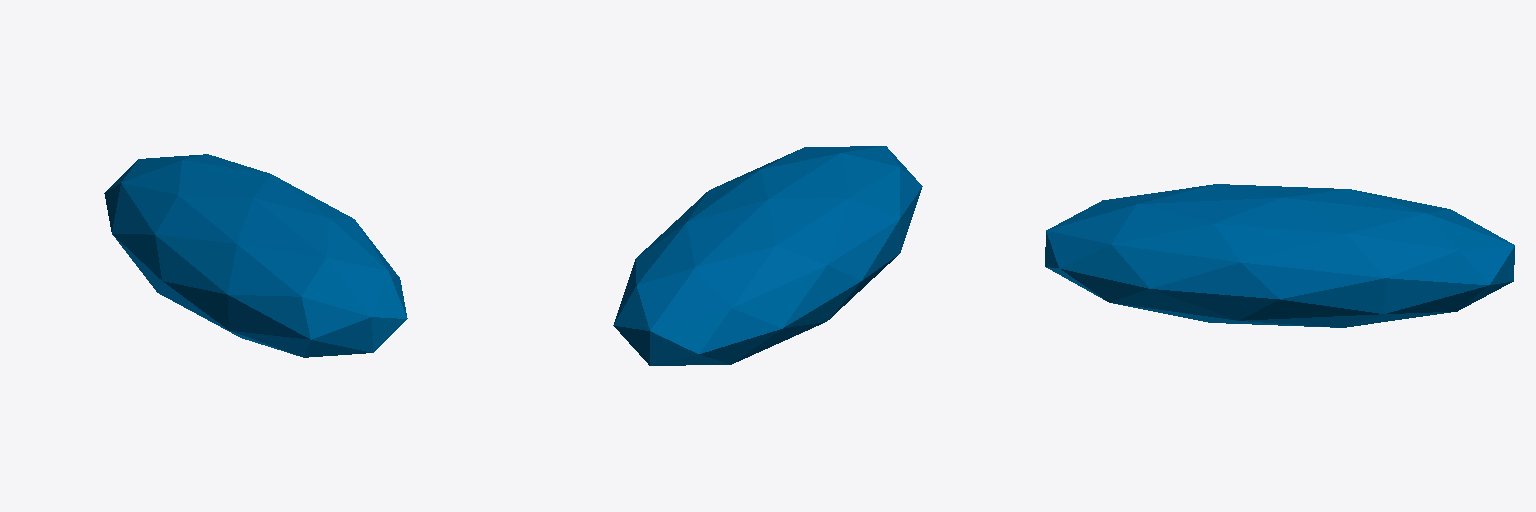
Rendered from patatoid.obj.
The picture shows the model from 3 angles: view 1: azimuth 30°, elevation 25°; view 2: azimuth 150°, elevation 25°; view 3: azimuth 270°, elevation 25°; orthographic projection.
Parts seen in each view (by area): view 1: Icosphere; view 2: Icosphere; view 3: Icosphere.
Boxes of the visible parts, x1=… form: Icosphere: x1=104, y1=154, x2=407, y2=357; Icosphere: x1=613, y1=146, x2=922, y2=365; Icosphere: x1=1045, y1=184, x2=1514, y2=327.
Bounding box in the file's own units: 8.2 × 4.82 × 17.83.